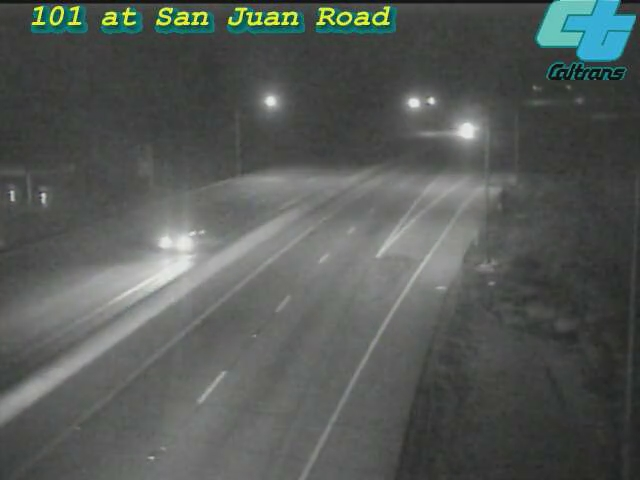vehicle: (143, 195, 223, 275), (446, 105, 496, 155)
